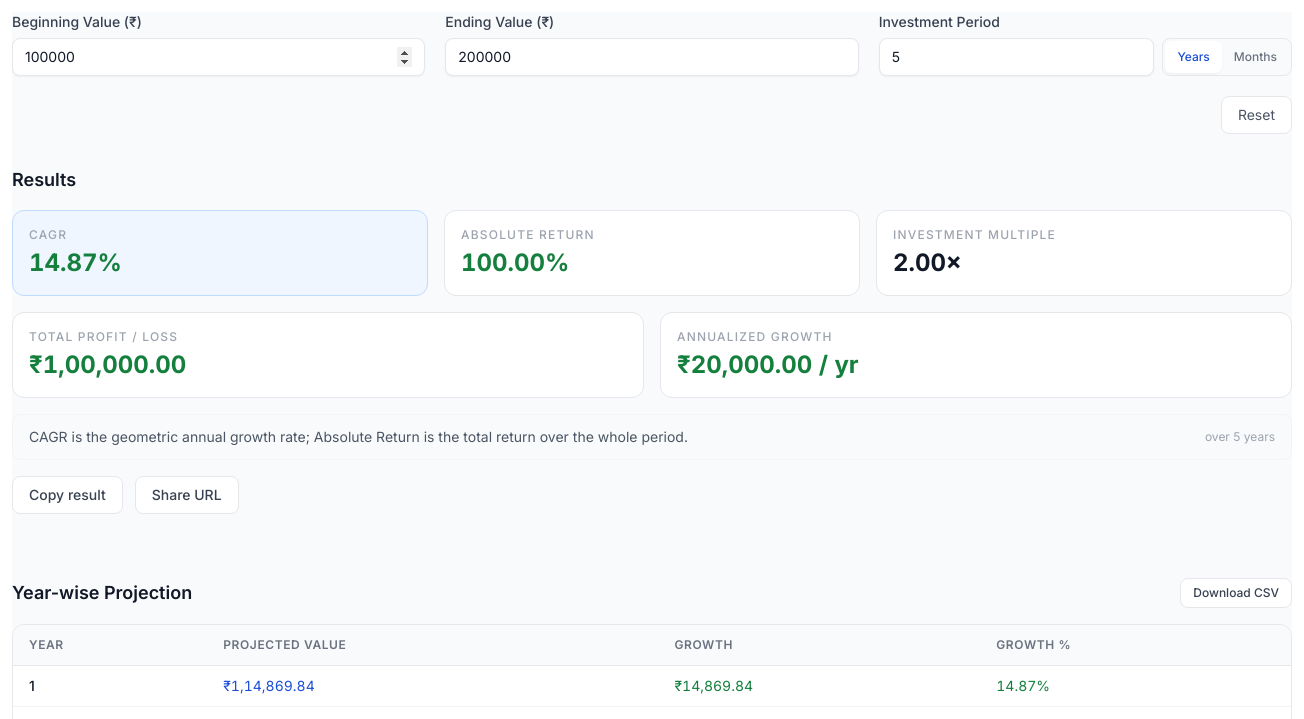
Test: CAGRCalculator › reset restores default beginning value (100000)
Replace the text in the number field labelled "Beginning Value (₹)" with "55555". click: (219, 57)
box: [12,38,425,76]
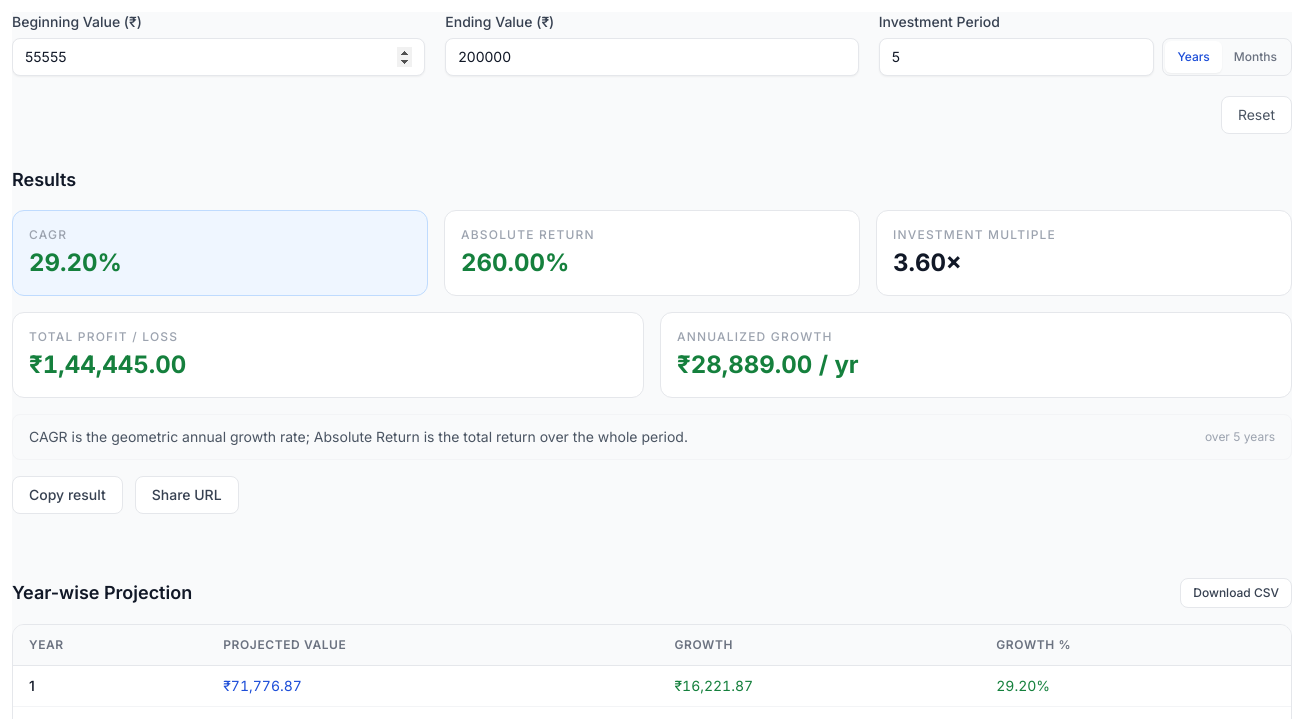
Click the button "Reset". click: (1256, 115)
box: [1221,96,1292,134]
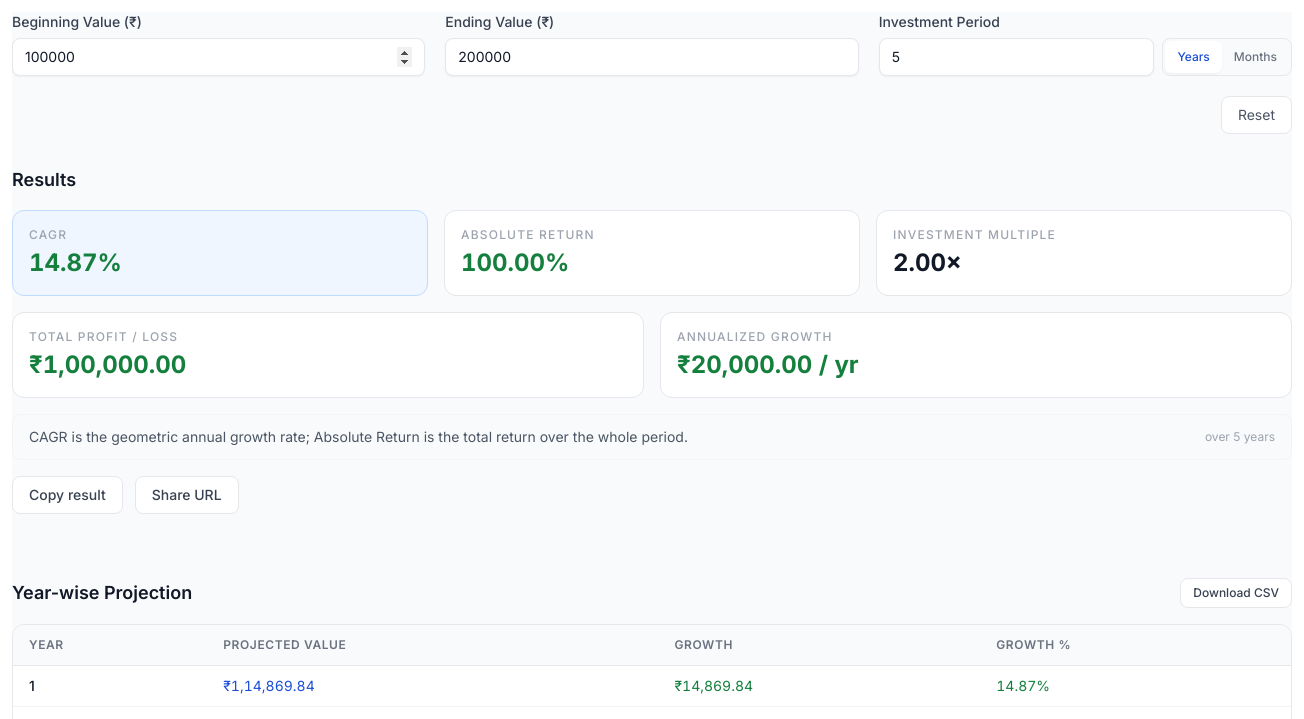
Expected: the number field labelled "Beginning Value (₹)" holds "100000", [12,38,425,76]
